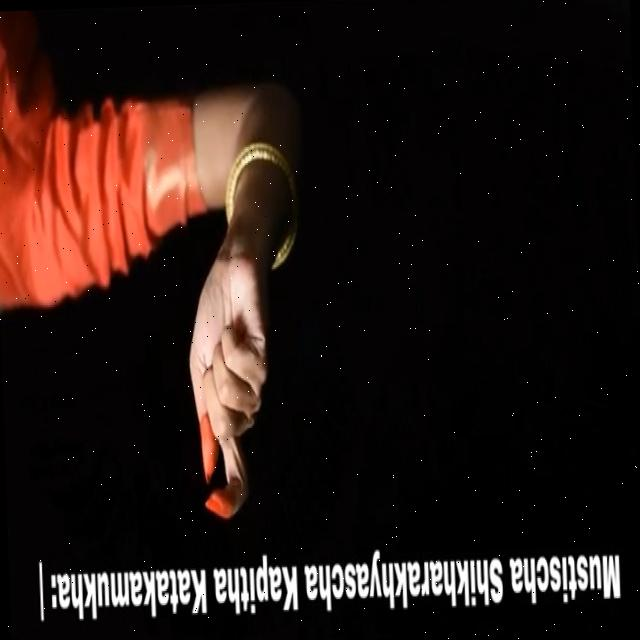Kapittha: (168, 231, 284, 528)
bangle: (218, 124, 302, 236)
text: (31, 533, 633, 640)
